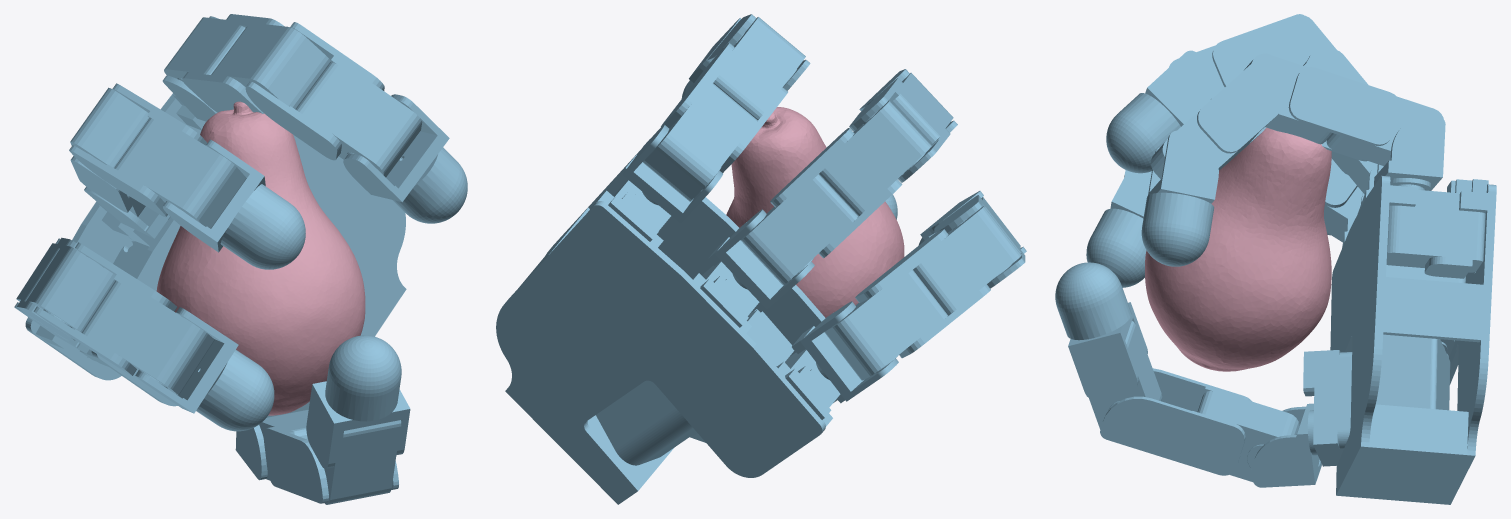
The picture shows the model from 3 angles, left to right: view 1: azimuth 30°, elevation 25°; view 2: azimuth 150°, elevation 25°; view 3: azimuth 270°, elevation 25°; orthographic projection. The views are drawn at different scales.
Parts seen in each view (by area): view 1: world, pear.stl; view 2: world, pear.stl; view 3: world, pear.stl.
Boxes of the visible parts, x1,y1,x2,y2 form: world: (14, 14, 467, 504); pear.stl: (156, 101, 365, 415); world: (496, 14, 1026, 504); pear.stl: (726, 107, 904, 317); world: (1055, 14, 1496, 504); pear.stl: (1145, 127, 1331, 371).
Bounding box in the file's own units: 0.1674 × 0.1675 × 0.1551.
